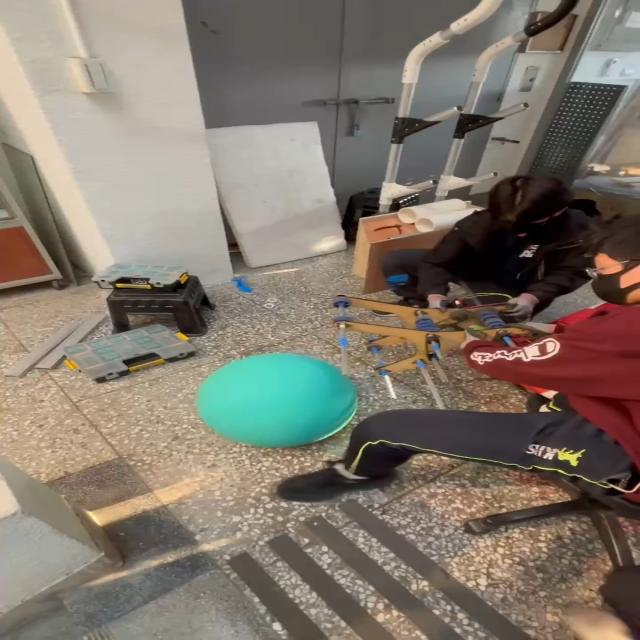ALGAE: (193, 352, 359, 448)
